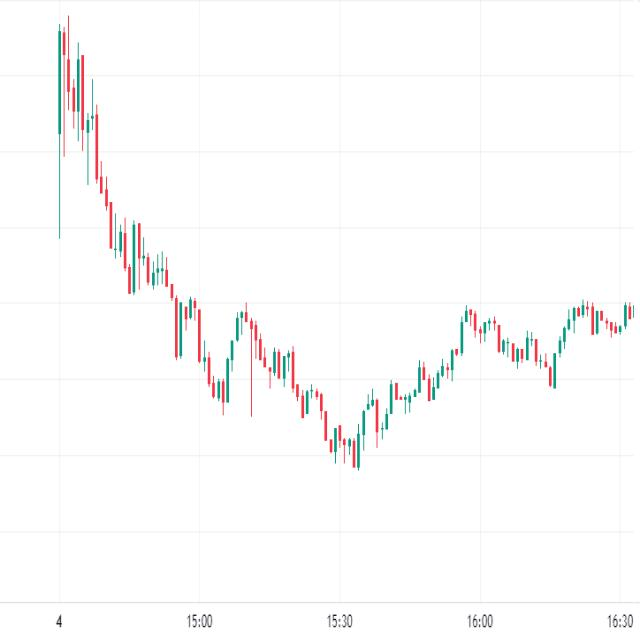Rounding-Bottom: (238, 293, 468, 477)
